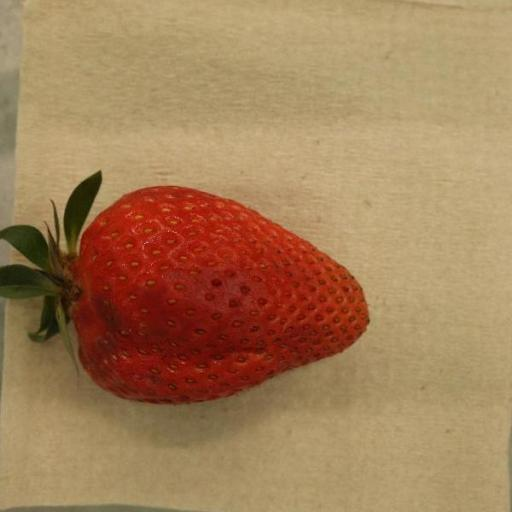Strawberry: (0, 171, 372, 405)
